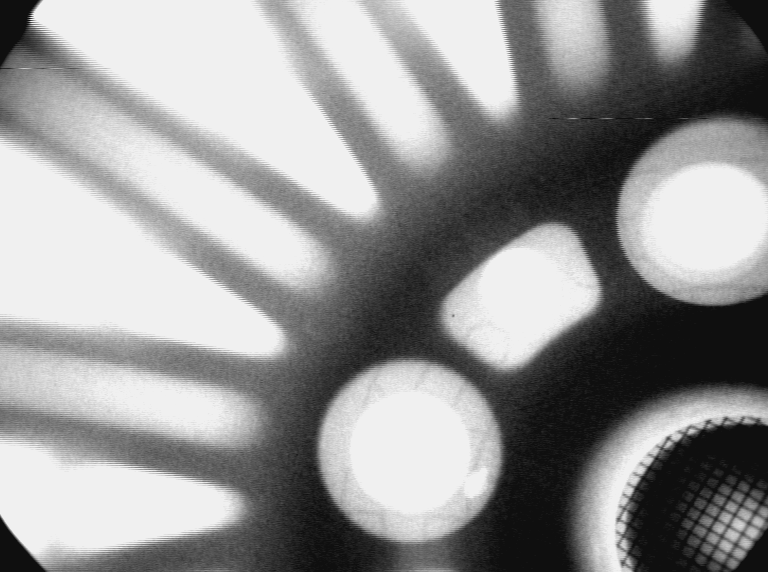defect: (462, 465, 492, 503)
